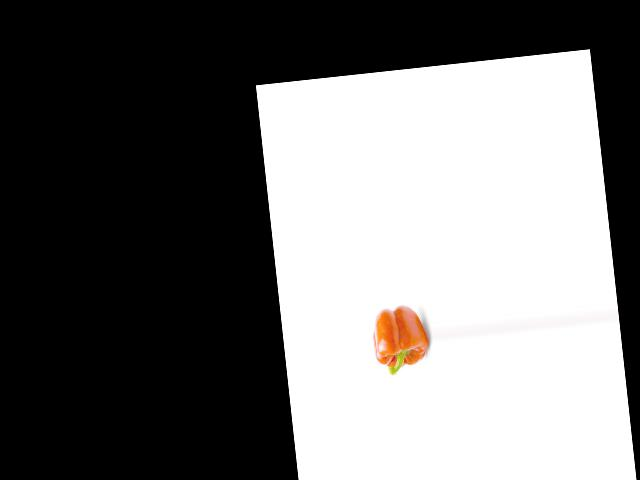bell_pepper: (369, 297, 431, 380)
